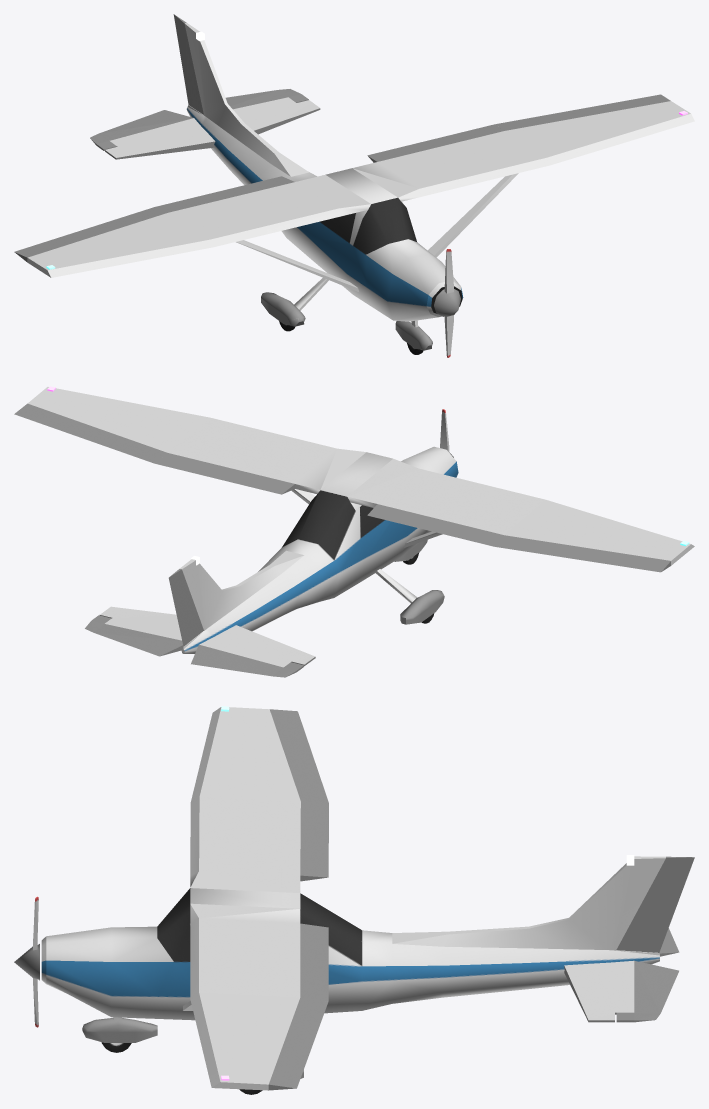
The picture shows the model from 3 angles, top to bottom: view 1: azimuth 30°, elevation 25°; view 2: azimuth 150°, elevation 25°; view 3: azimuth 270°, elevation 25°; orthographic projection. The views are drawn at different scales.
Parts seen in each view (by area): view 1: Body_Plane_0, Stabilizer_Plane_0, Elevator_Plane_0, RightAileron_Plane_0, LeftAileron_Plane_0, LeftFlap_Plane_0, RightFlap_Plane_0, Propeller_Plane_0, Rudder_Plane_0; view 2: Body_Plane_0, Stabilizer_Plane_0, Elevator_Plane_0, RightAileron_Plane_0, LeftAileron_Plane_0, LeftFlap_Plane_0, RightFlap_Plane_0, Rudder_Plane_0; view 3: Body_Plane_0, Rudder_Plane_0, Stabilizer_Plane_0, LeftAileron_Plane_0, RightAileron_Plane_0, Elevator_Plane_0, RightFlap_Plane_0, LeftFlap_Plane_0, Propeller_Plane_0.
Boxes of the visible parts, x1,y1,x2,y2 form: Body_Plane_0: [27, 23, 694, 350]; Stabilizer_Plane_0: [105, 97, 320, 159]; Elevator_Plane_0: [90, 89, 308, 150]; RightAileron_Plane_0: [14, 207, 167, 261]; LeftAileron_Plane_0: [495, 94, 670, 130]; LeftFlap_Plane_0: [367, 124, 503, 162]; RightFlap_Plane_0: [155, 176, 294, 212]; Propeller_Plane_0: [434, 249, 460, 357]; Rudder_Plane_0: [173, 14, 203, 114]; Body_Plane_0: [28, 387, 694, 653]; Stabilizer_Plane_0: [100, 606, 315, 667]; Elevator_Plane_0: [85, 615, 303, 677]; RightAileron_Plane_0: [494, 535, 670, 572]; LeftAileron_Plane_0: [14, 403, 167, 463]; LeftFlap_Plane_0: [155, 453, 294, 494]; RightFlap_Plane_0: [367, 504, 503, 546]; Rudder_Plane_0: [168, 569, 203, 646]; Body_Plane_0: [41, 707, 665, 1090]; Rudder_Plane_0: [616, 856, 694, 952]; Stabilizer_Plane_0: [564, 960, 634, 1022]; LeftAileron_Plane_0: [268, 997, 328, 1090]; RightAileron_Plane_0: [269, 709, 328, 803]; Elevator_Plane_0: [616, 928, 679, 1022]; RightFlap_Plane_0: [300, 801, 328, 881]; LeftFlap_Plane_0: [300, 923, 328, 1001]; Propeller_Plane_0: [14, 896, 39, 1027].
Bounding box in the file's own units: 226 × 54.63 × 173.
Materials: 4 (1 with a texture image).
